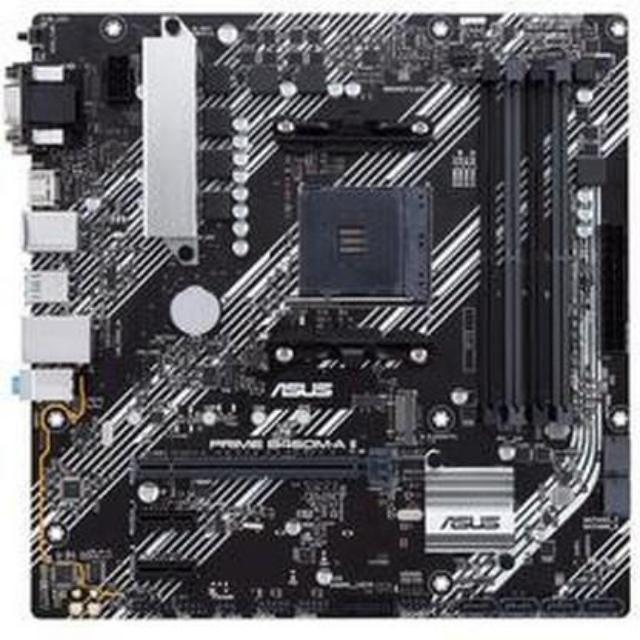Mainboard: (23, 8, 640, 624)
